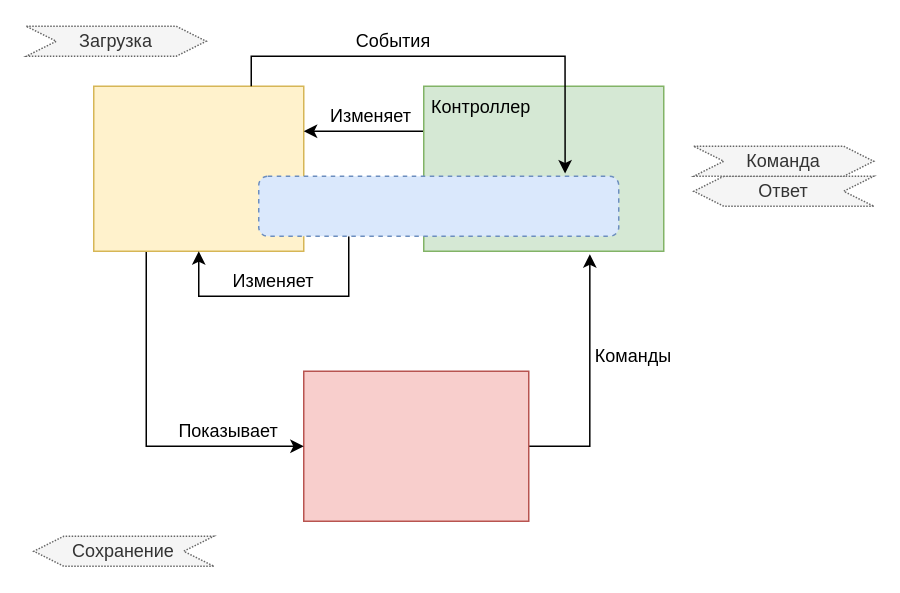
Image size: 900x593. Some labels were removed from this diagram. Here are the shapes that lost their labels. From the top down, the box of each, then its label:
(92, 85, 304, 251): Модель
(257, 175, 619, 236): Шаблон
(302, 370, 529, 521): Представление
